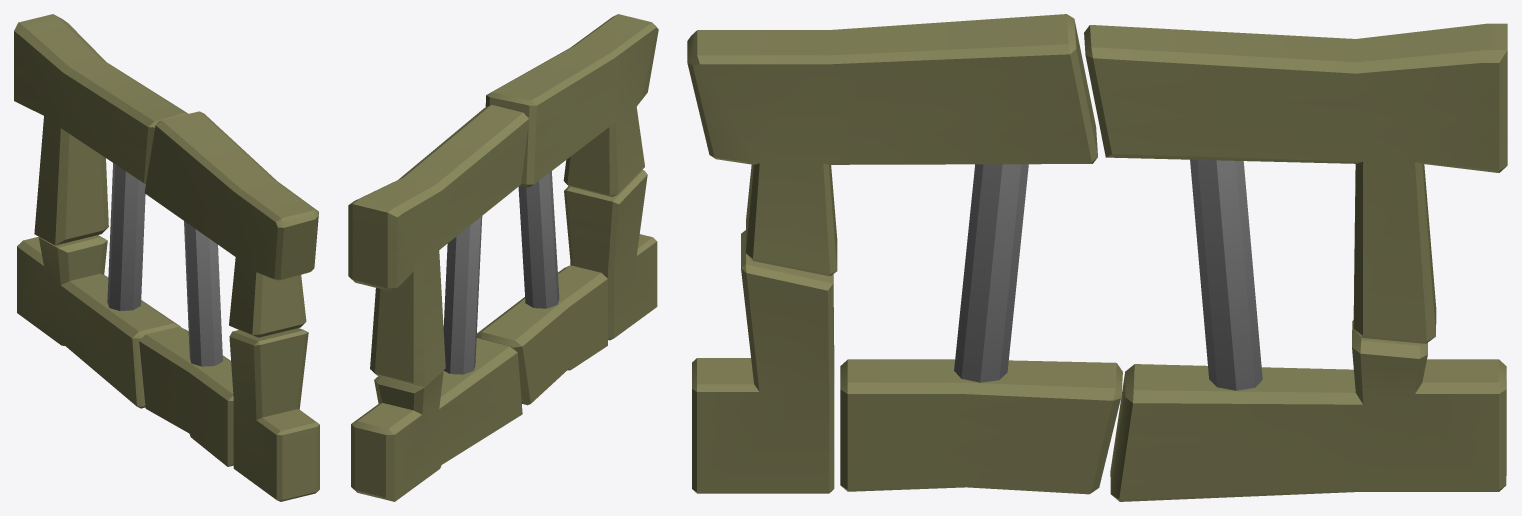
File: Ventana.fbx
3 views of the same model, side by side, from view 1: azimuth 30°, elevation 25°; view 2: azimuth 150°, elevation 25°; view 3: azimuth 270°, elevation 25° (orthographic). The views are drawn at different scales.
Visible parts, largest first — view 1: Ventana; view 2: Ventana; view 3: Ventana.
Part boxes in pixels (x1=…): Ventana: x1=14, y1=14, x2=319, y2=501; Ventana: x1=348, y1=14, x2=658, y2=501; Ventana: x1=687, y1=14, x2=1507, y2=501.
Bounding box in the file's own units: 77.5 × 392 × 631.
